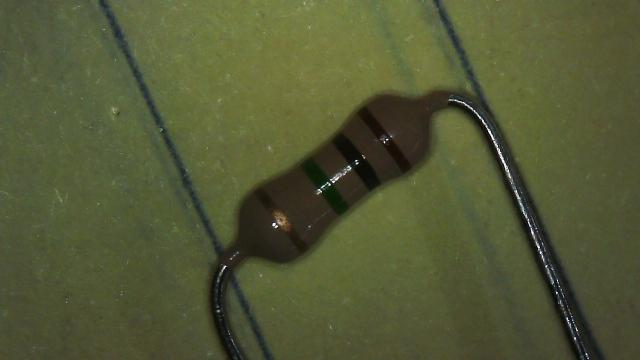black: (332, 133, 380, 190)
brown: (358, 106, 412, 174)
gold: (254, 187, 308, 254)
green: (300, 158, 350, 215)
resistor: (205, 56, 470, 299)
